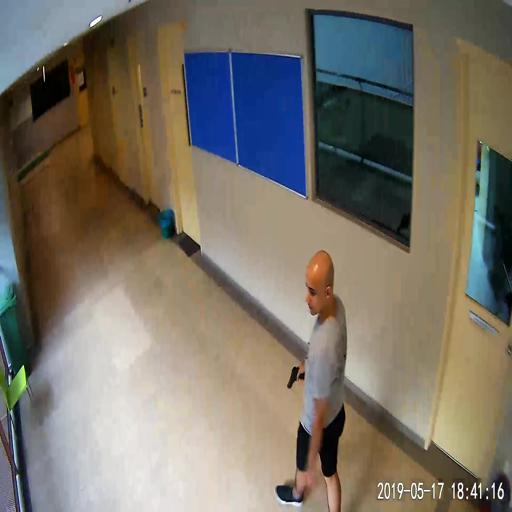pistol: (286, 365, 304, 388)
